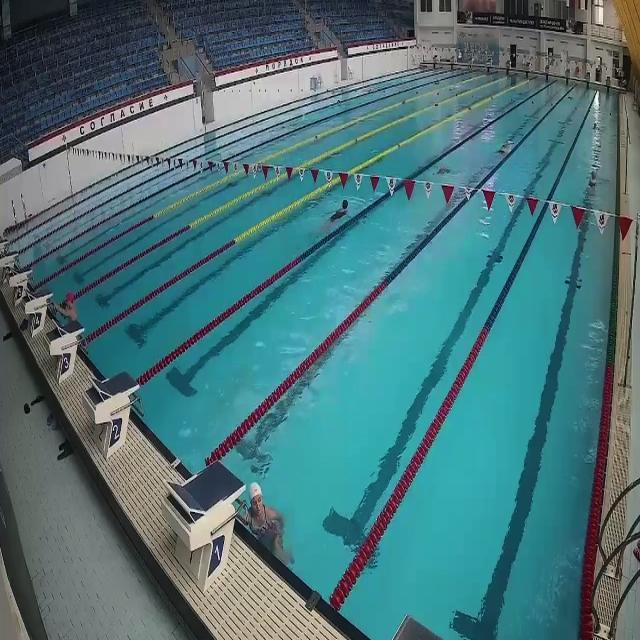Swimming: (246, 482, 295, 565), (319, 198, 352, 230), (50, 295, 79, 321)
